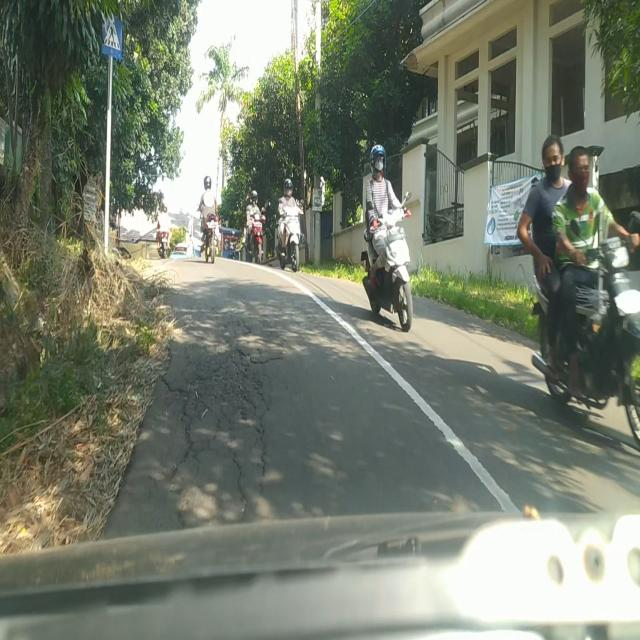Drain Hole: (172, 324, 283, 506)
